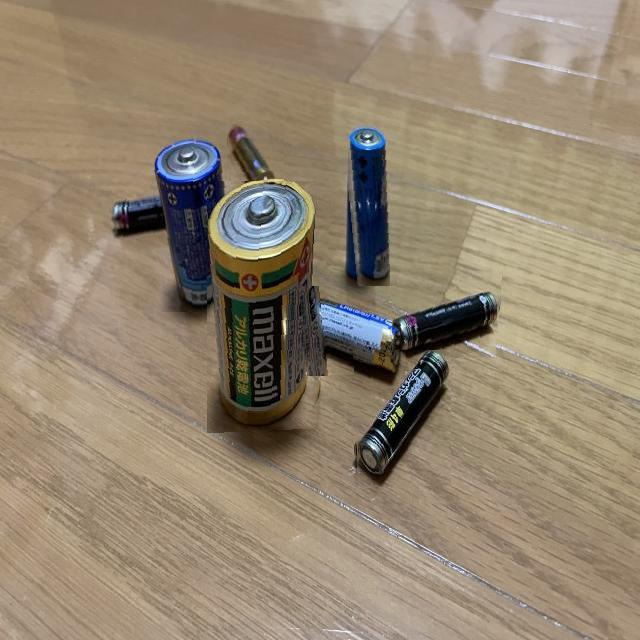battery: (207, 181, 333, 434), (153, 136, 240, 312), (353, 350, 451, 488), (392, 264, 502, 358), (299, 286, 408, 376), (342, 124, 390, 288), (110, 190, 192, 240), (226, 122, 284, 192)
